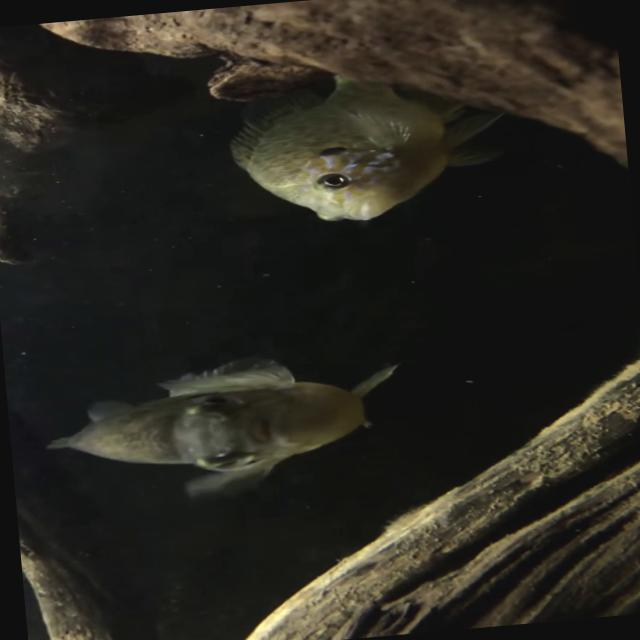Gunes Levregi: (37, 343, 410, 512), (218, 56, 514, 232)
